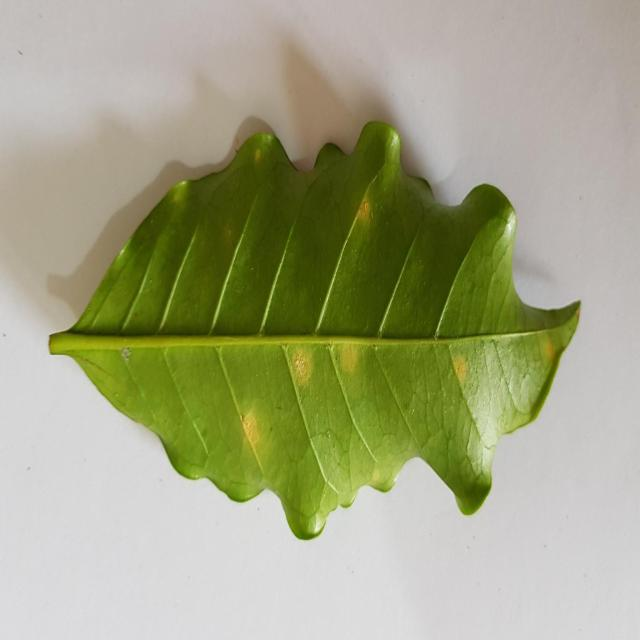rust: (351, 174, 382, 232), (287, 345, 312, 397), (448, 343, 471, 389)
